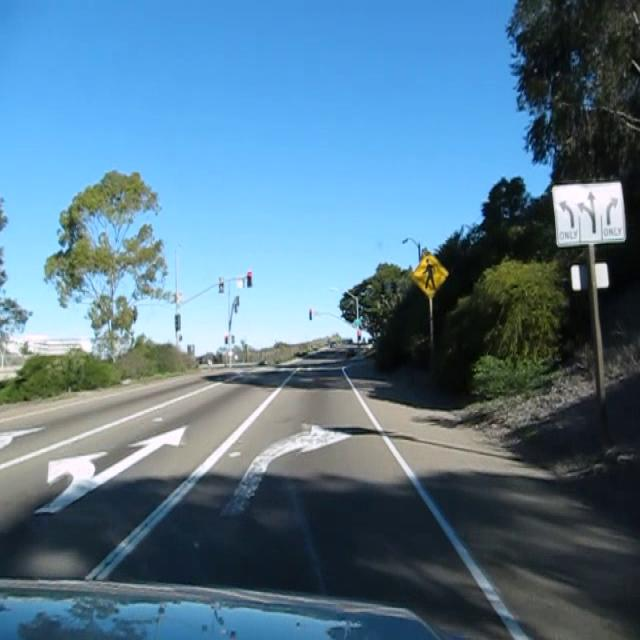pedestrianCrossing: (409, 249, 449, 299)
